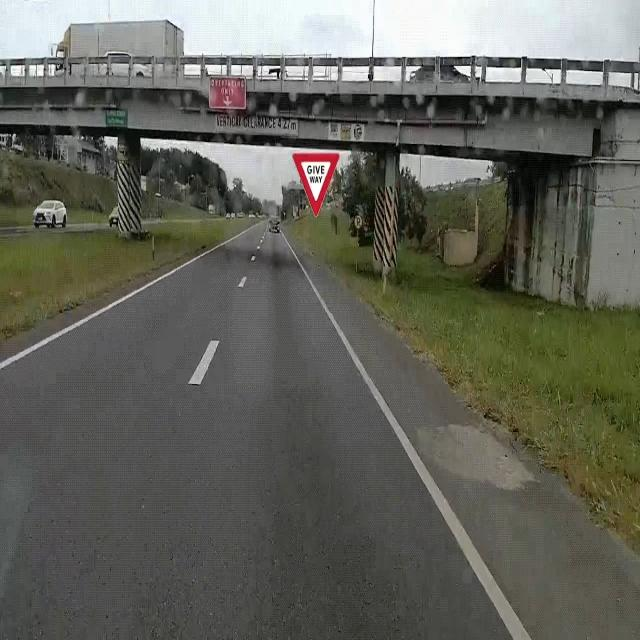Ceder-le-Passage: (287, 141, 347, 223)
